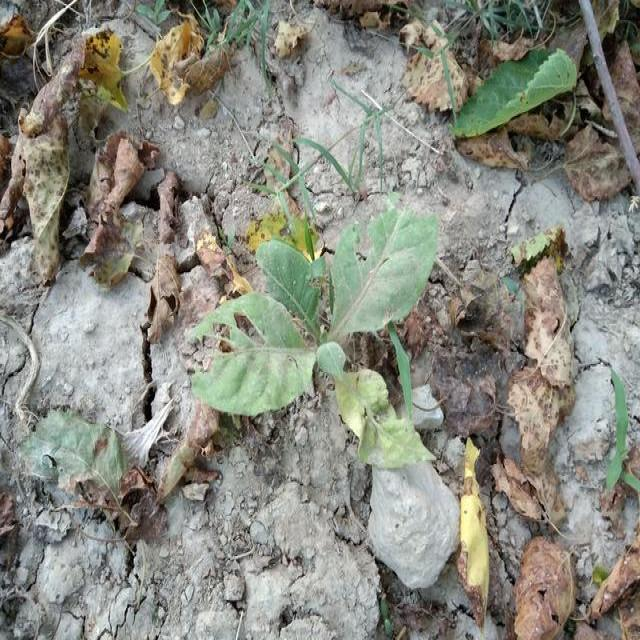crop: (194, 192, 438, 473)
